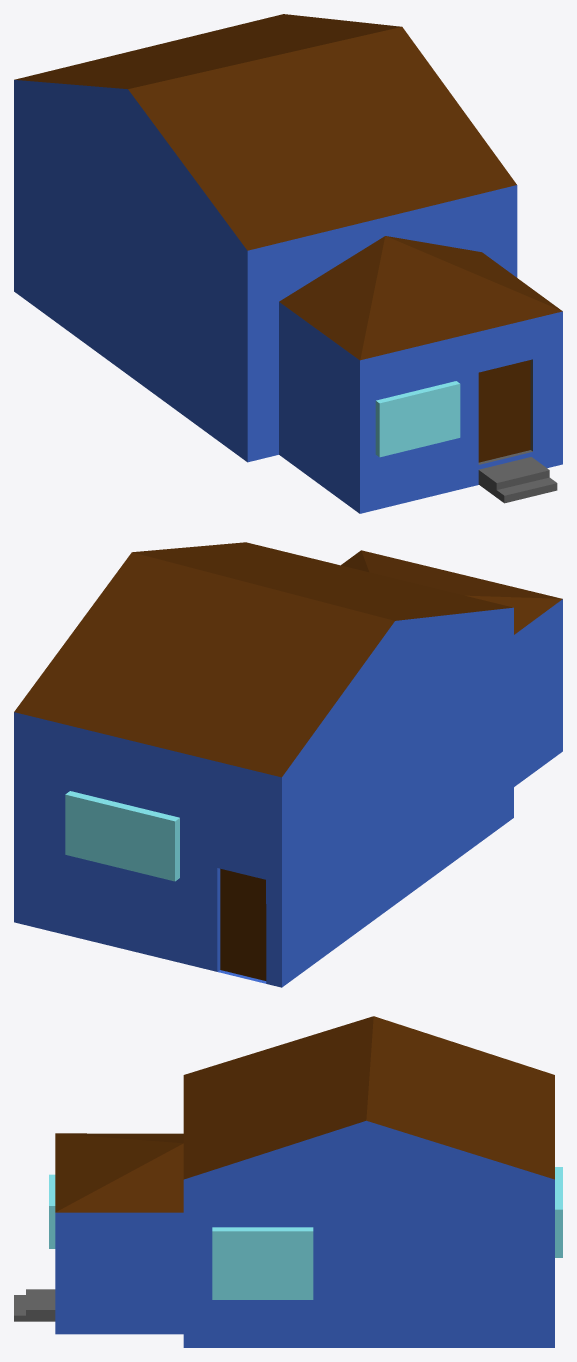
Rendered from SmallHouse.fbx.
The picture shows the model from 3 angles, top to bottom: view 1: azimuth 30°, elevation 25°; view 2: azimuth 150°, elevation 25°; view 3: azimuth 270°, elevation 25°; orthographic projection. The views are drawn at different scales.
Visible parts, largest first — view 1: Cube; view 2: Cube; view 3: Cube.
Boxes of the visible parts, box(x1,y1,x2,y2) form: Cube: box(14, 14, 562, 513); Cube: box(14, 542, 562, 987); Cube: box(14, 1016, 562, 1347).
Size of the model in its own units: 1663 by 1620 by 3549.
